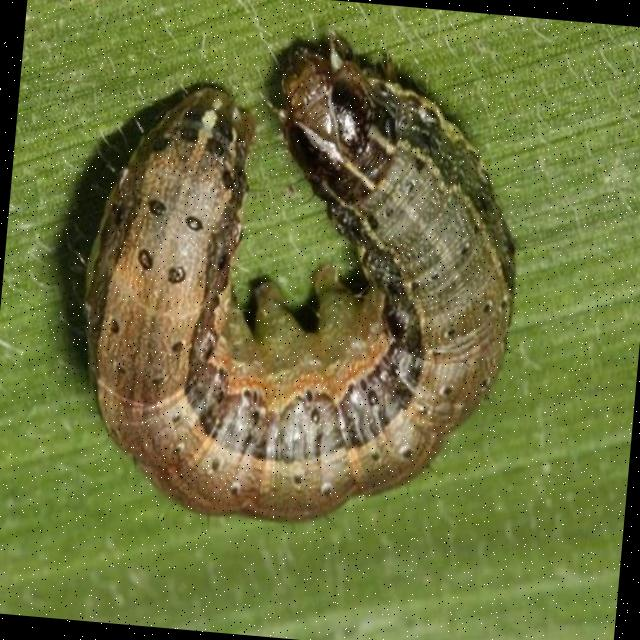worm: (62, 12, 538, 546)
